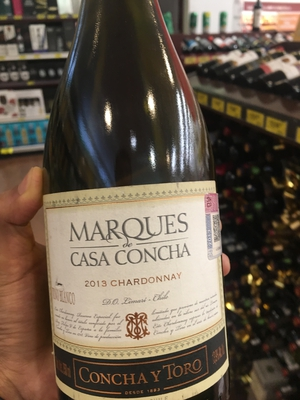marques de casa concha chardonnay: (43, 24, 250, 398)
